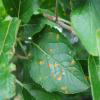Apple rust leaf: (25, 23, 91, 95)
